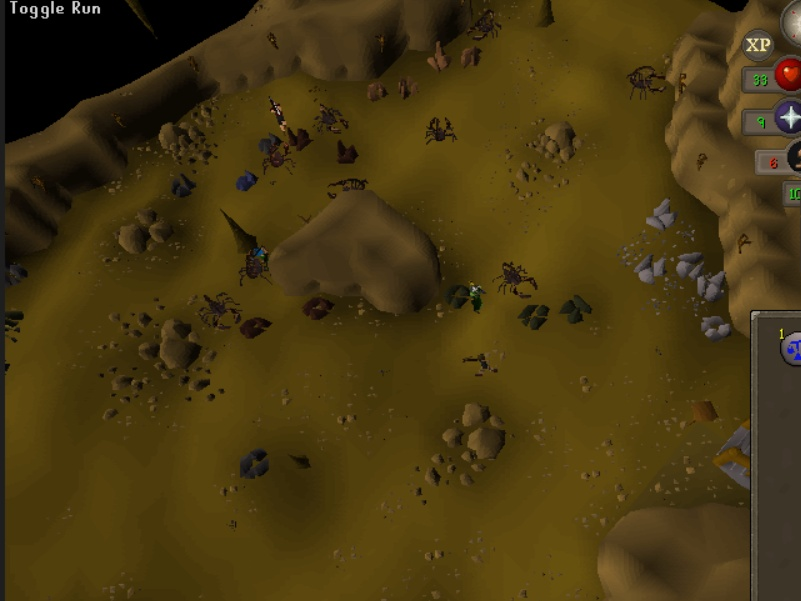coal: (555, 288, 598, 327), (519, 298, 552, 334), (438, 277, 471, 313)
copper: (424, 38, 458, 74), (360, 77, 391, 106), (454, 42, 485, 71), (392, 71, 423, 100)
iron: (233, 313, 280, 338), (301, 290, 333, 326), (284, 123, 317, 155), (329, 136, 362, 168)
mithril: (230, 165, 266, 194)
tin: (642, 190, 682, 237), (632, 248, 670, 285), (671, 243, 709, 280), (700, 306, 738, 343), (698, 271, 731, 305)
